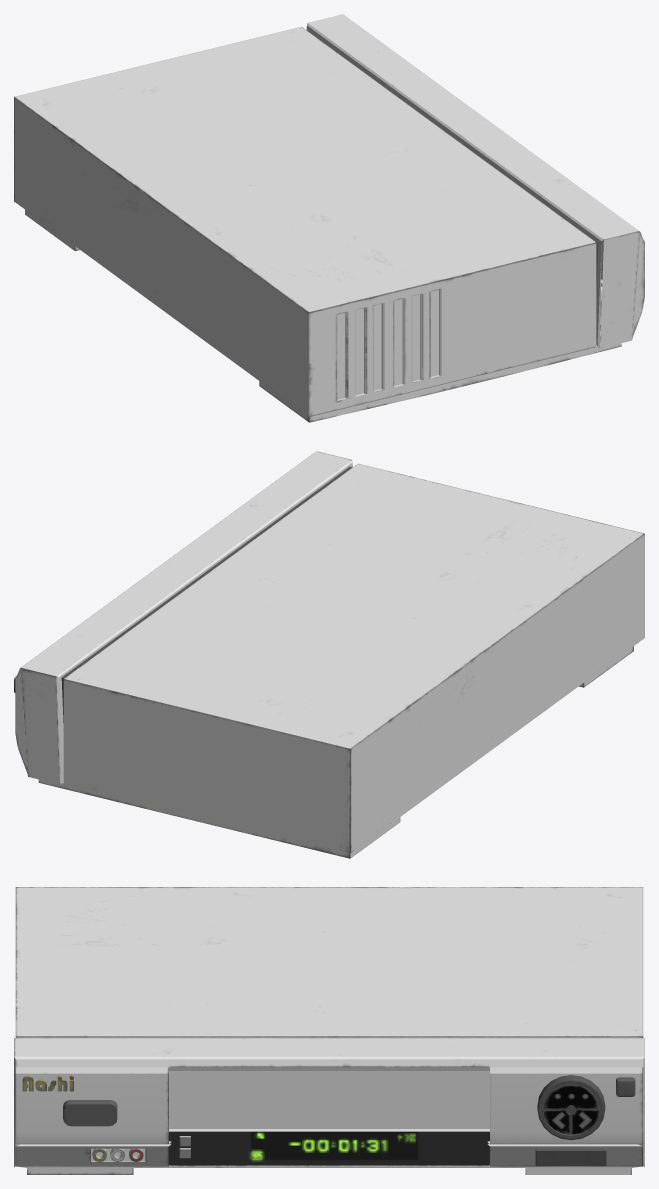
Rendered from vhs_player.glb.
3 renders of one model, top to bottom at view 1: azimuth 30°, elevation 25°; view 2: azimuth 150°, elevation 25°; view 3: azimuth 270°, elevation 25°, orthographic. The views are drawn at different scales.
Visible parts, largest first — view 1: typeMesh2; view 2: typeMesh2; view 3: typeMesh2.
Part boxes in pixels (left/top/right/bottom): typeMesh2: left=14, top=14, right=644, bottom=422; typeMesh2: left=14, top=451, right=644, bottom=858; typeMesh2: left=14, top=887, right=644, bottom=1174.
Bounding box in the file's own units: 1.64 × 0.5362 × 2.44.
1 material, 1 textured.
